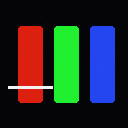3 line_h: (8, 86, 52, 88)
